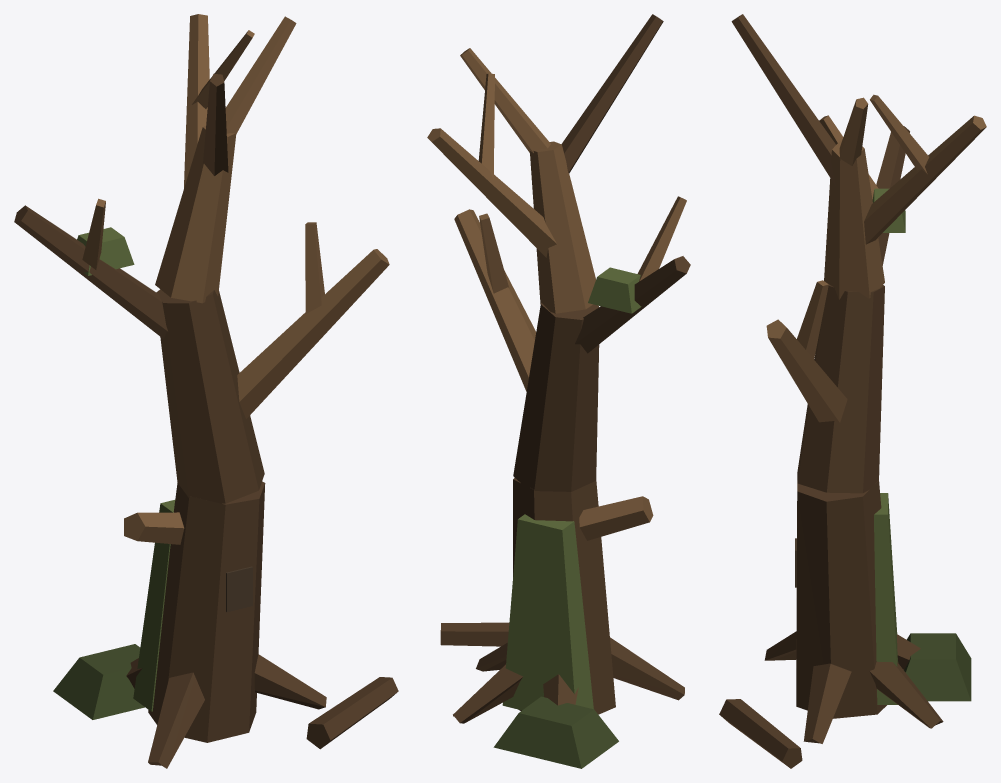
Rendered from dead_tree.glb.
3 renders of one model, left to right at view 1: azimuth 30°, elevation 25°; view 2: azimuth 150°, elevation 25°; view 3: azimuth 270°, elevation 25°, orthographic. The views are drawn at different scales.
Parts seen in each view (by area): view 1: dead_tree_mesh; view 2: dead_tree_mesh; view 3: dead_tree_mesh.
Part boxes in pixels (x1,y1,x2,y2): dead_tree_mesh: (14, 14, 398, 768); dead_tree_mesh: (427, 14, 690, 768); dead_tree_mesh: (719, 14, 986, 768).
Bounding box in the file's own units: 1.73 × 3.57 × 1.31.
